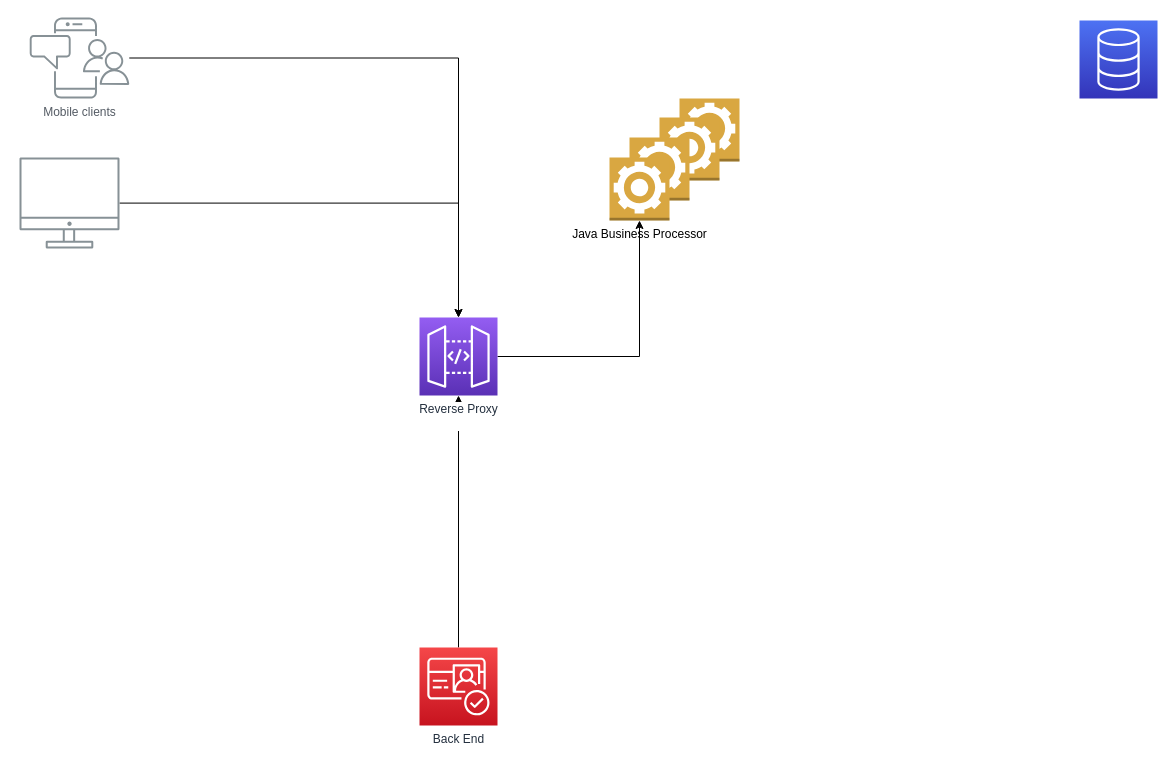
Some shapes in this 1175 by 778 pixel diagram are drawn without their labels. Here are the shapes that lost their labels. From the top down, the centre of each, then its label:
pixel 1118 59: Database
pixel 69 202: Browser Application
